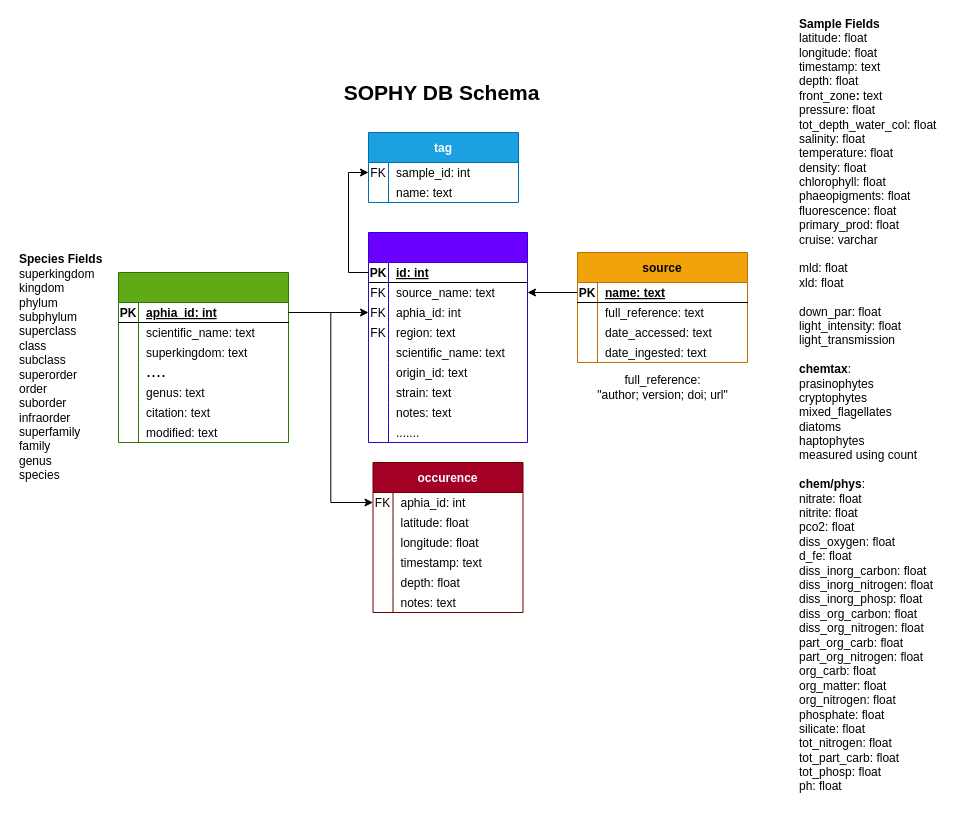
The diagram is 964 pixels wide and 825 high, and some of its shapes have lost their labels. Each missing label, with the box of its shape:
sample: (368, 232, 528, 442)
species: (118, 272, 288, 442)
